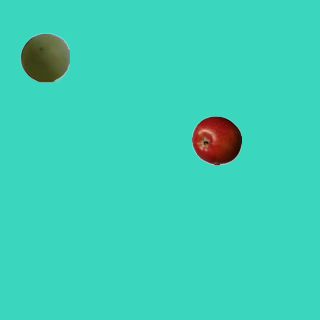Apple Braeburn: (191, 115, 241, 165)
Grape White 4: (19, 32, 69, 82)
